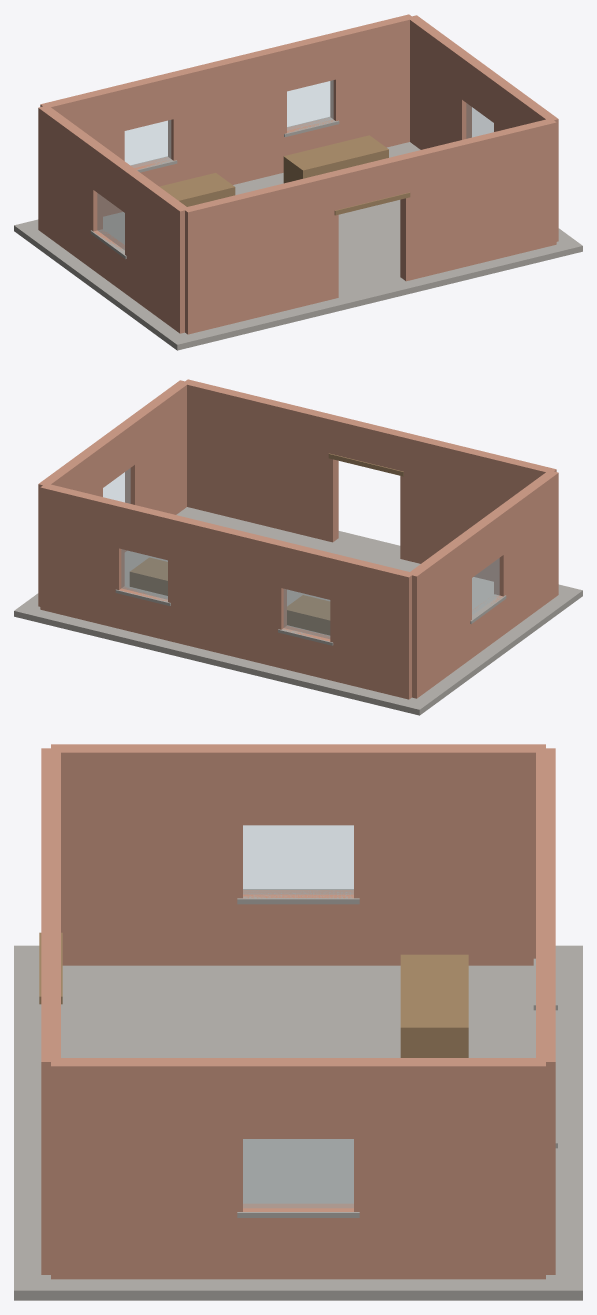
The model's file is scenescript_hall.glb.
3 renders of one model, top to bottom at view 1: azimuth 30°, elevation 25°; view 2: azimuth 150°, elevation 25°; view 3: azimuth 270°, elevation 25°, orthographic. The views are drawn at different scales.
Parts seen in each view (by area): view 1: wall_2, wall_0, wall_3, floor_slab, wall_1, bbox_counter_31, window_glass_21, window_glass_20, bbox_counter_30, window_glass_23, window_glass_22; view 2: wall_0, wall_2, wall_3, floor_slab, wall_1, window_glass_21, window_glass_20, bbox_counter_30, bbox_counter_31, window_glass_23, window_glass_22, window_sill_23; view 3: wall_1, wall_3, floor_slab, wall_2, wall_0, window_glass_23, window_glass_22, bbox_counter_30, window_sill_23, window_sill_22.
Part boxes in pixels (<box>): wall_2: <box>182,119,556,334</box>; wall_0: <box>40,14,414,216</box>; wall_3: <box>38,105,187,333</box>; floor_slab: <box>14,142,582,350</box>; wall_1: <box>408,15,558,241</box>; bbox_counter_31: <box>283,135,388,183</box>; window_glass_21: <box>287,80,333,130</box>; window_glass_20: <box>125,120,170,167</box>; bbox_counter_30: <box>159,173,235,206</box>; window_glass_23: <box>97,193,124,249</box>; window_glass_22: <box>466,103,493,138</box>; wall_0: <box>40,483,414,699</box>; wall_2: <box>183,379,556,581</box>; wall_3: <box>408,470,558,698</box>; floor_slab: <box>14,507,582,715</box>; wall_1: <box>38,380,188,606</box>; window_glass_21: <box>121,549,167,599</box>; window_glass_20: <box>284,589,329,638</box>; bbox_counter_30: <box>287,595,330,635</box>; bbox_counter_31: <box>129,557,167,595</box>; window_glass_23: <box>472,558,499,614</box>; window_glass_22: <box>103,468,130,503</box>; window_sill_23: <box>470,593,506,623</box>; wall_1: <box>51,1058,545,1279</box>; wall_3: <box>51,744,545,965</box>; floor_slab: <box>14,945,582,1300</box>; wall_2: <box>41,748,60,1274</box>; wall_0: <box>536,748,555,1274</box>; window_glass_23: <box>243,825,353,894</box>; window_glass_22: <box>243,1139,353,1207</box>; bbox_counter_30: <box>400,954,468,1057</box>; window_sill_23: <box>237,889,359,904</box>; window_sill_22: <box>237,1202,359,1217</box>.
Size of the model in its own units: 13.2 by 3.98 by 9.2.
